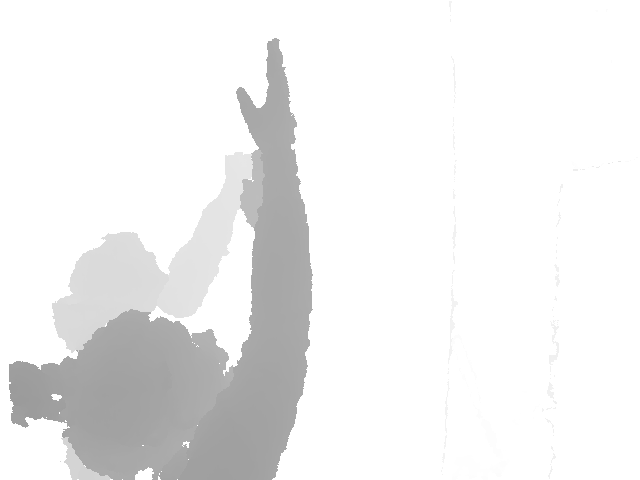hand: (235, 39, 296, 149), (223, 146, 262, 206)
head: (54, 311, 229, 469), (69, 229, 169, 321)
person: (10, 40, 314, 480), (49, 147, 253, 480)
